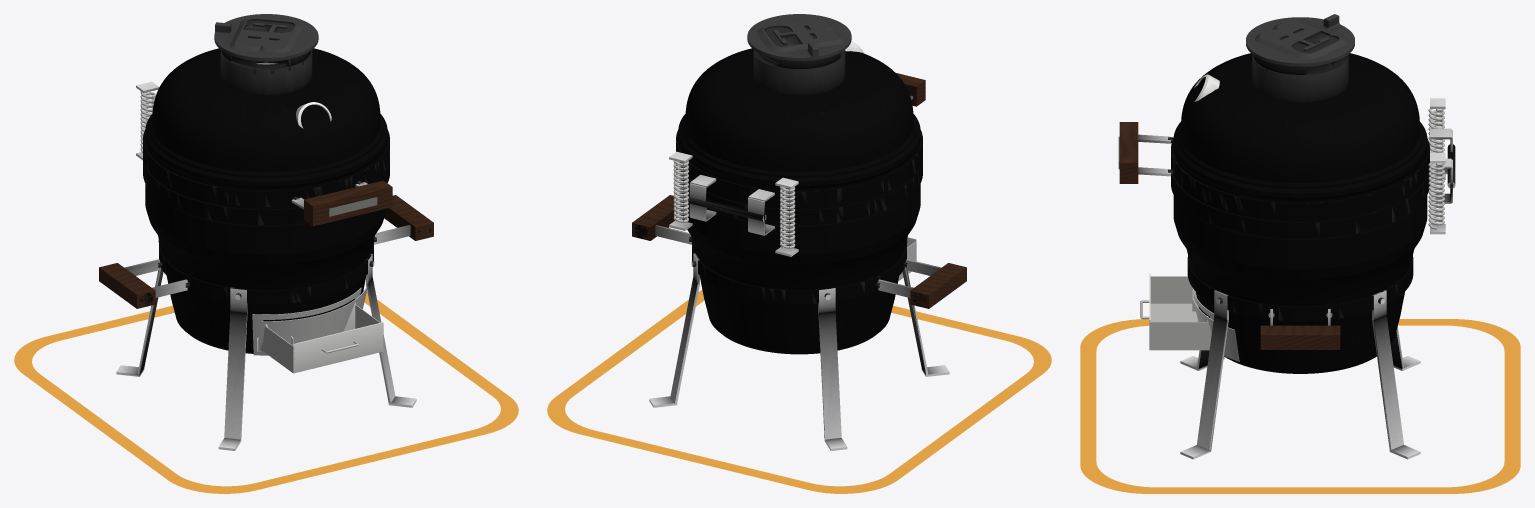
The model's file is grill-bill-pro-3-medium-16-v2.glb.
The picture shows the model from 3 angles, left to right: view 1: azimuth 30°, elevation 25°; view 2: azimuth 150°, elevation 25°; view 3: azimuth 270°, elevation 25°; orthographic projection. The views are drawn at different scales.
Visible parts, largest first — view 1: base, lid; view 2: base, lid; view 3: base, lid.
Part boxes in pixels (x1=…): base: x1=14, y1=91, x2=518, y2=493; lid: x1=136, y1=14, x2=392, y2=226; base: x1=547, y1=145, x2=1051, y2=493; lid: x1=669, y1=14, x2=925, y2=218; base: x1=1080, y1=108, x2=1520, y2=493; lid: x1=1118, y1=14, x2=1452, y2=219.
Bounding box in the file's own units: 0.6441 × 0.6475 × 0.6853.
20 materials, 7 textured.
